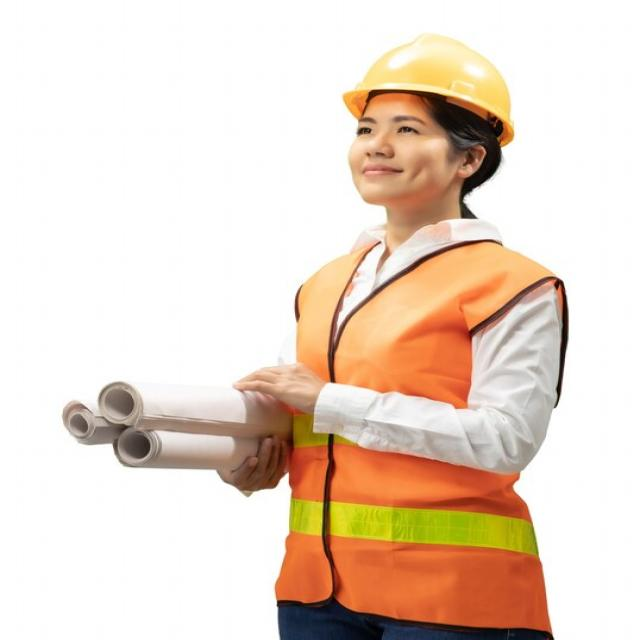Reflective-Jacket: (269, 220, 564, 639)
Safety-Helmet: (338, 30, 520, 148)
